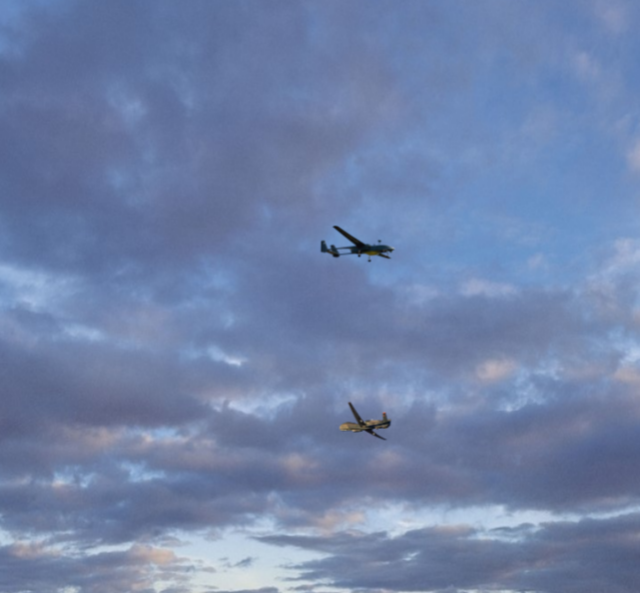military drone: (320, 224, 394, 262), (339, 402, 390, 440)
